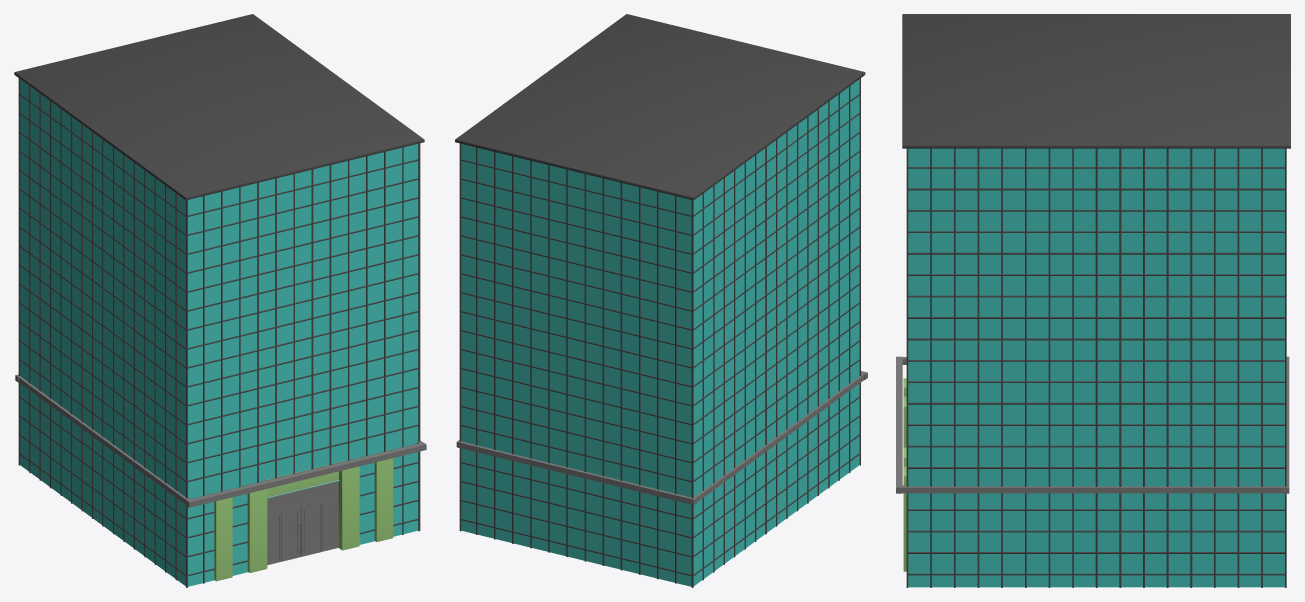
Rendered from SM_building_glass_large_02.fbx.
3 renders of one model, left to right at view 1: azimuth 30°, elevation 25°; view 2: azimuth 150°, elevation 25°; view 3: azimuth 270°, elevation 25°, orthographic. The views are drawn at different scales.
Visible parts, largest first — view 1: Box082; view 2: Box082; view 3: Box082.
Boxes of the visible parts, <box> form: Box082: <box>14,14,426,587</box>; Box082: <box>455,14,867,587</box>; Box082: <box>896,14,1290,587</box>.
Bounding box in the file's own units: 590 × 926 × 747.
